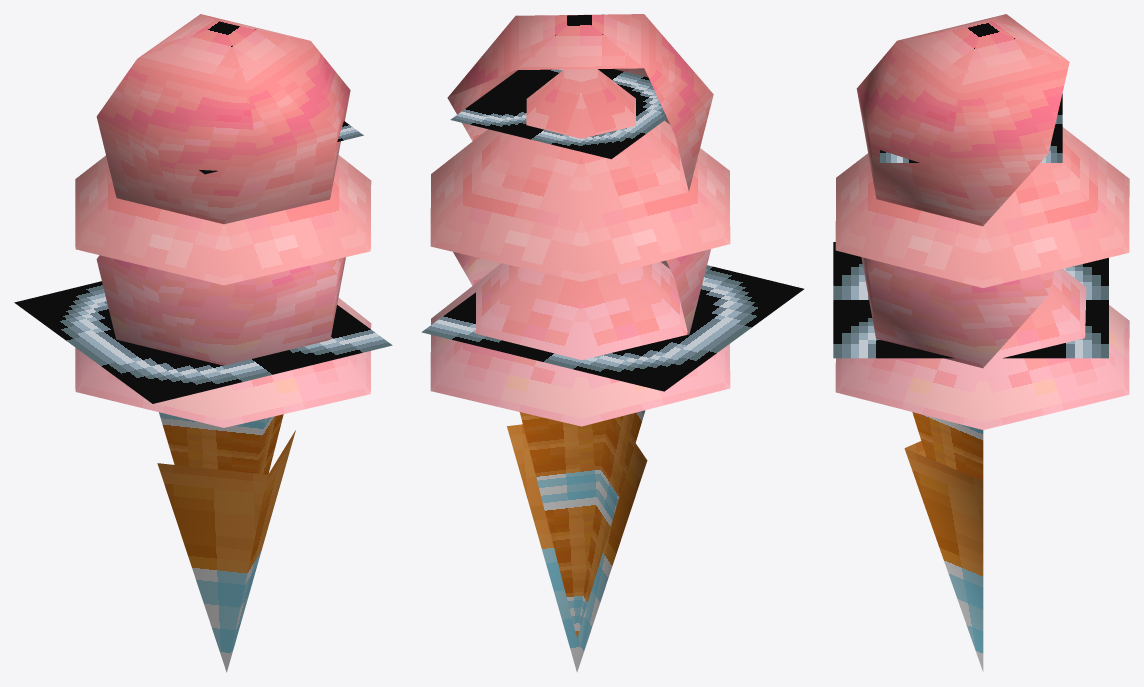
The picture shows the model from 3 angles, left to right: view 1: azimuth 30°, elevation 25°; view 2: azimuth 150°, elevation 25°; view 3: azimuth 270°, elevation 25°; orthographic projection.
Visible parts, largest first — view 1: 5603u_ice00_hs; view 2: 5603u_ice00_hs; view 3: 5603u_ice00_hs.
Boxes of the visible parts, x1=… form: 5603u_ice00_hs: x1=14, y1=14, x2=392, y2=672; 5603u_ice00_hs: x1=421, y1=14, x2=803, y2=672; 5603u_ice00_hs: x1=833, y1=14, x2=1129, y2=671.
Bounding box in the file's own units: 0.4375 × 0.9199 × 0.3818.
6 materials, 6 textured.
